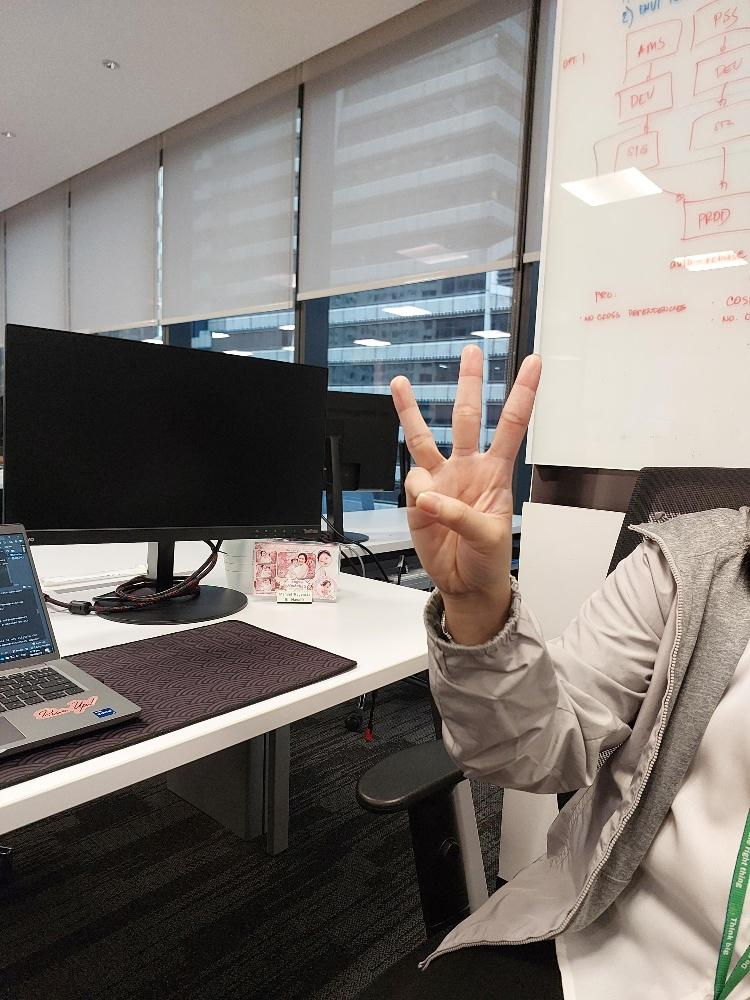w: (390, 343, 541, 593)
